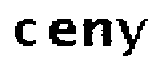c: (12, 16, 37, 51)
e: (47, 16, 78, 49)
n: (82, 16, 113, 50)
y: (114, 15, 146, 60)
